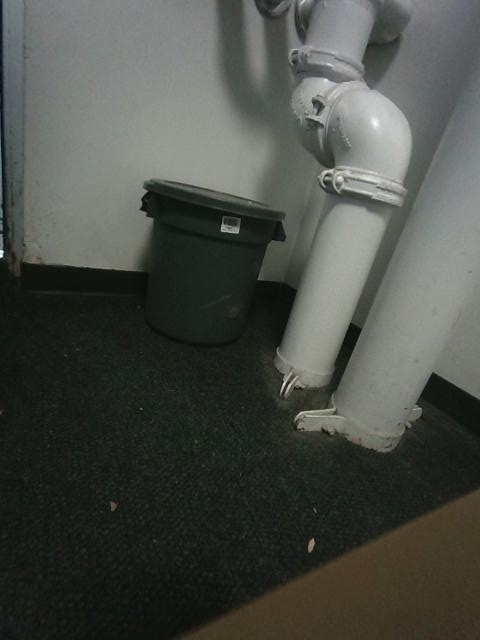ball: (141, 179, 284, 343)
